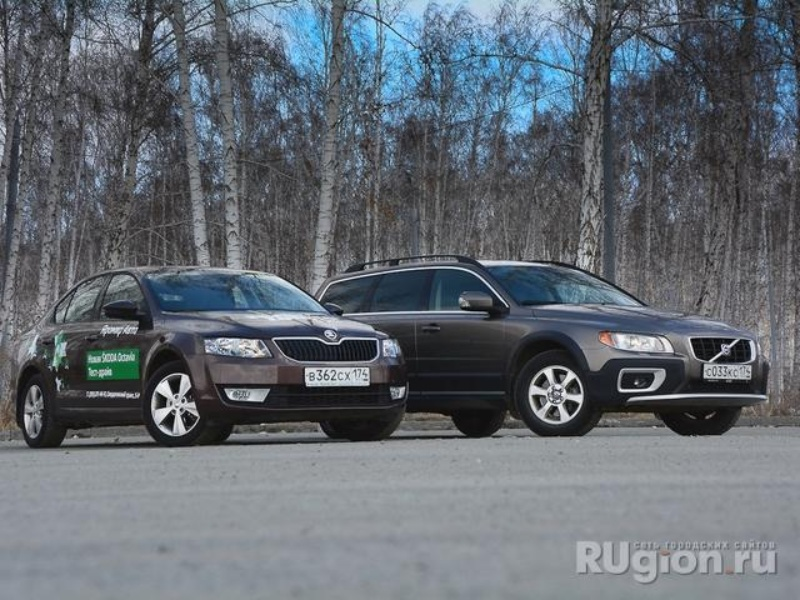car: (312, 254, 768, 437), (16, 267, 408, 448)
plate: (304, 367, 369, 385), (702, 362, 752, 380)
